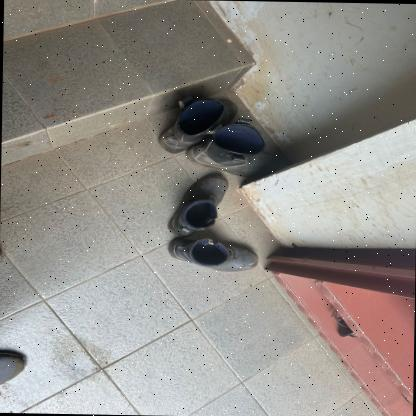bota: (185, 124, 287, 178), (152, 88, 237, 149), (166, 172, 230, 234), (168, 236, 258, 274)
